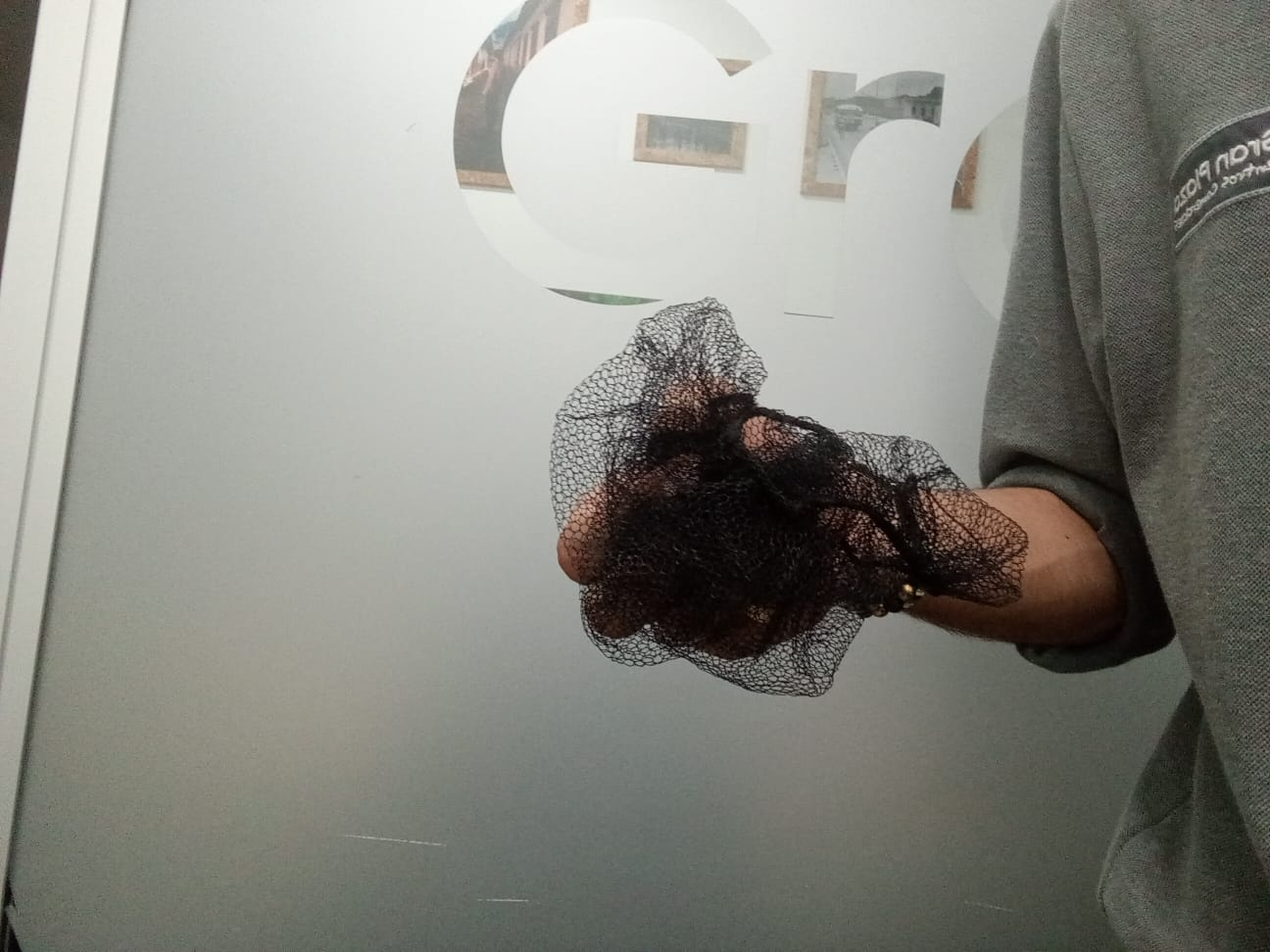Ordinario: (551, 300, 1028, 698)
